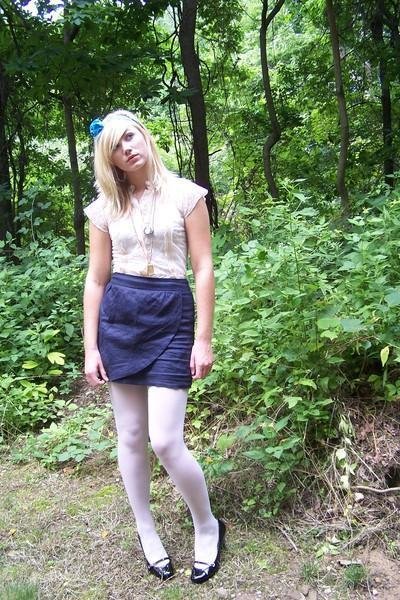shirt: (84, 166, 207, 278)
shoe: (143, 540, 217, 569)
skirt: (97, 273, 199, 391)
